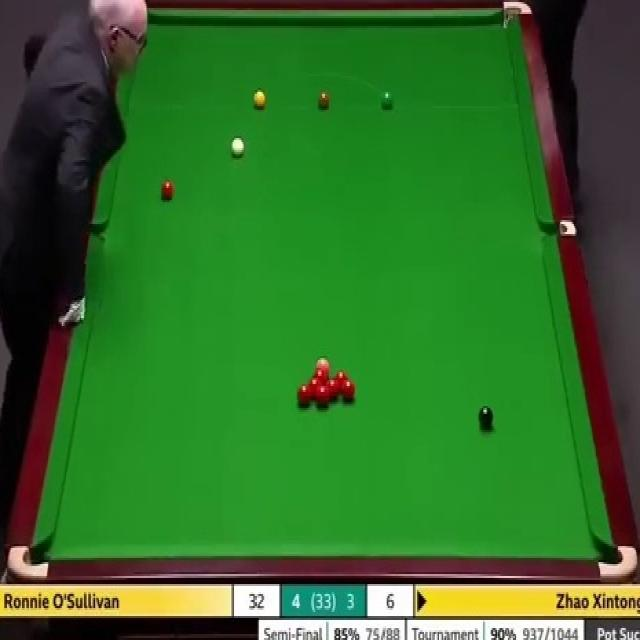pocket: (598, 544, 638, 583), (6, 544, 49, 579), (502, 2, 533, 32), (542, 222, 576, 240), (87, 218, 104, 238)
